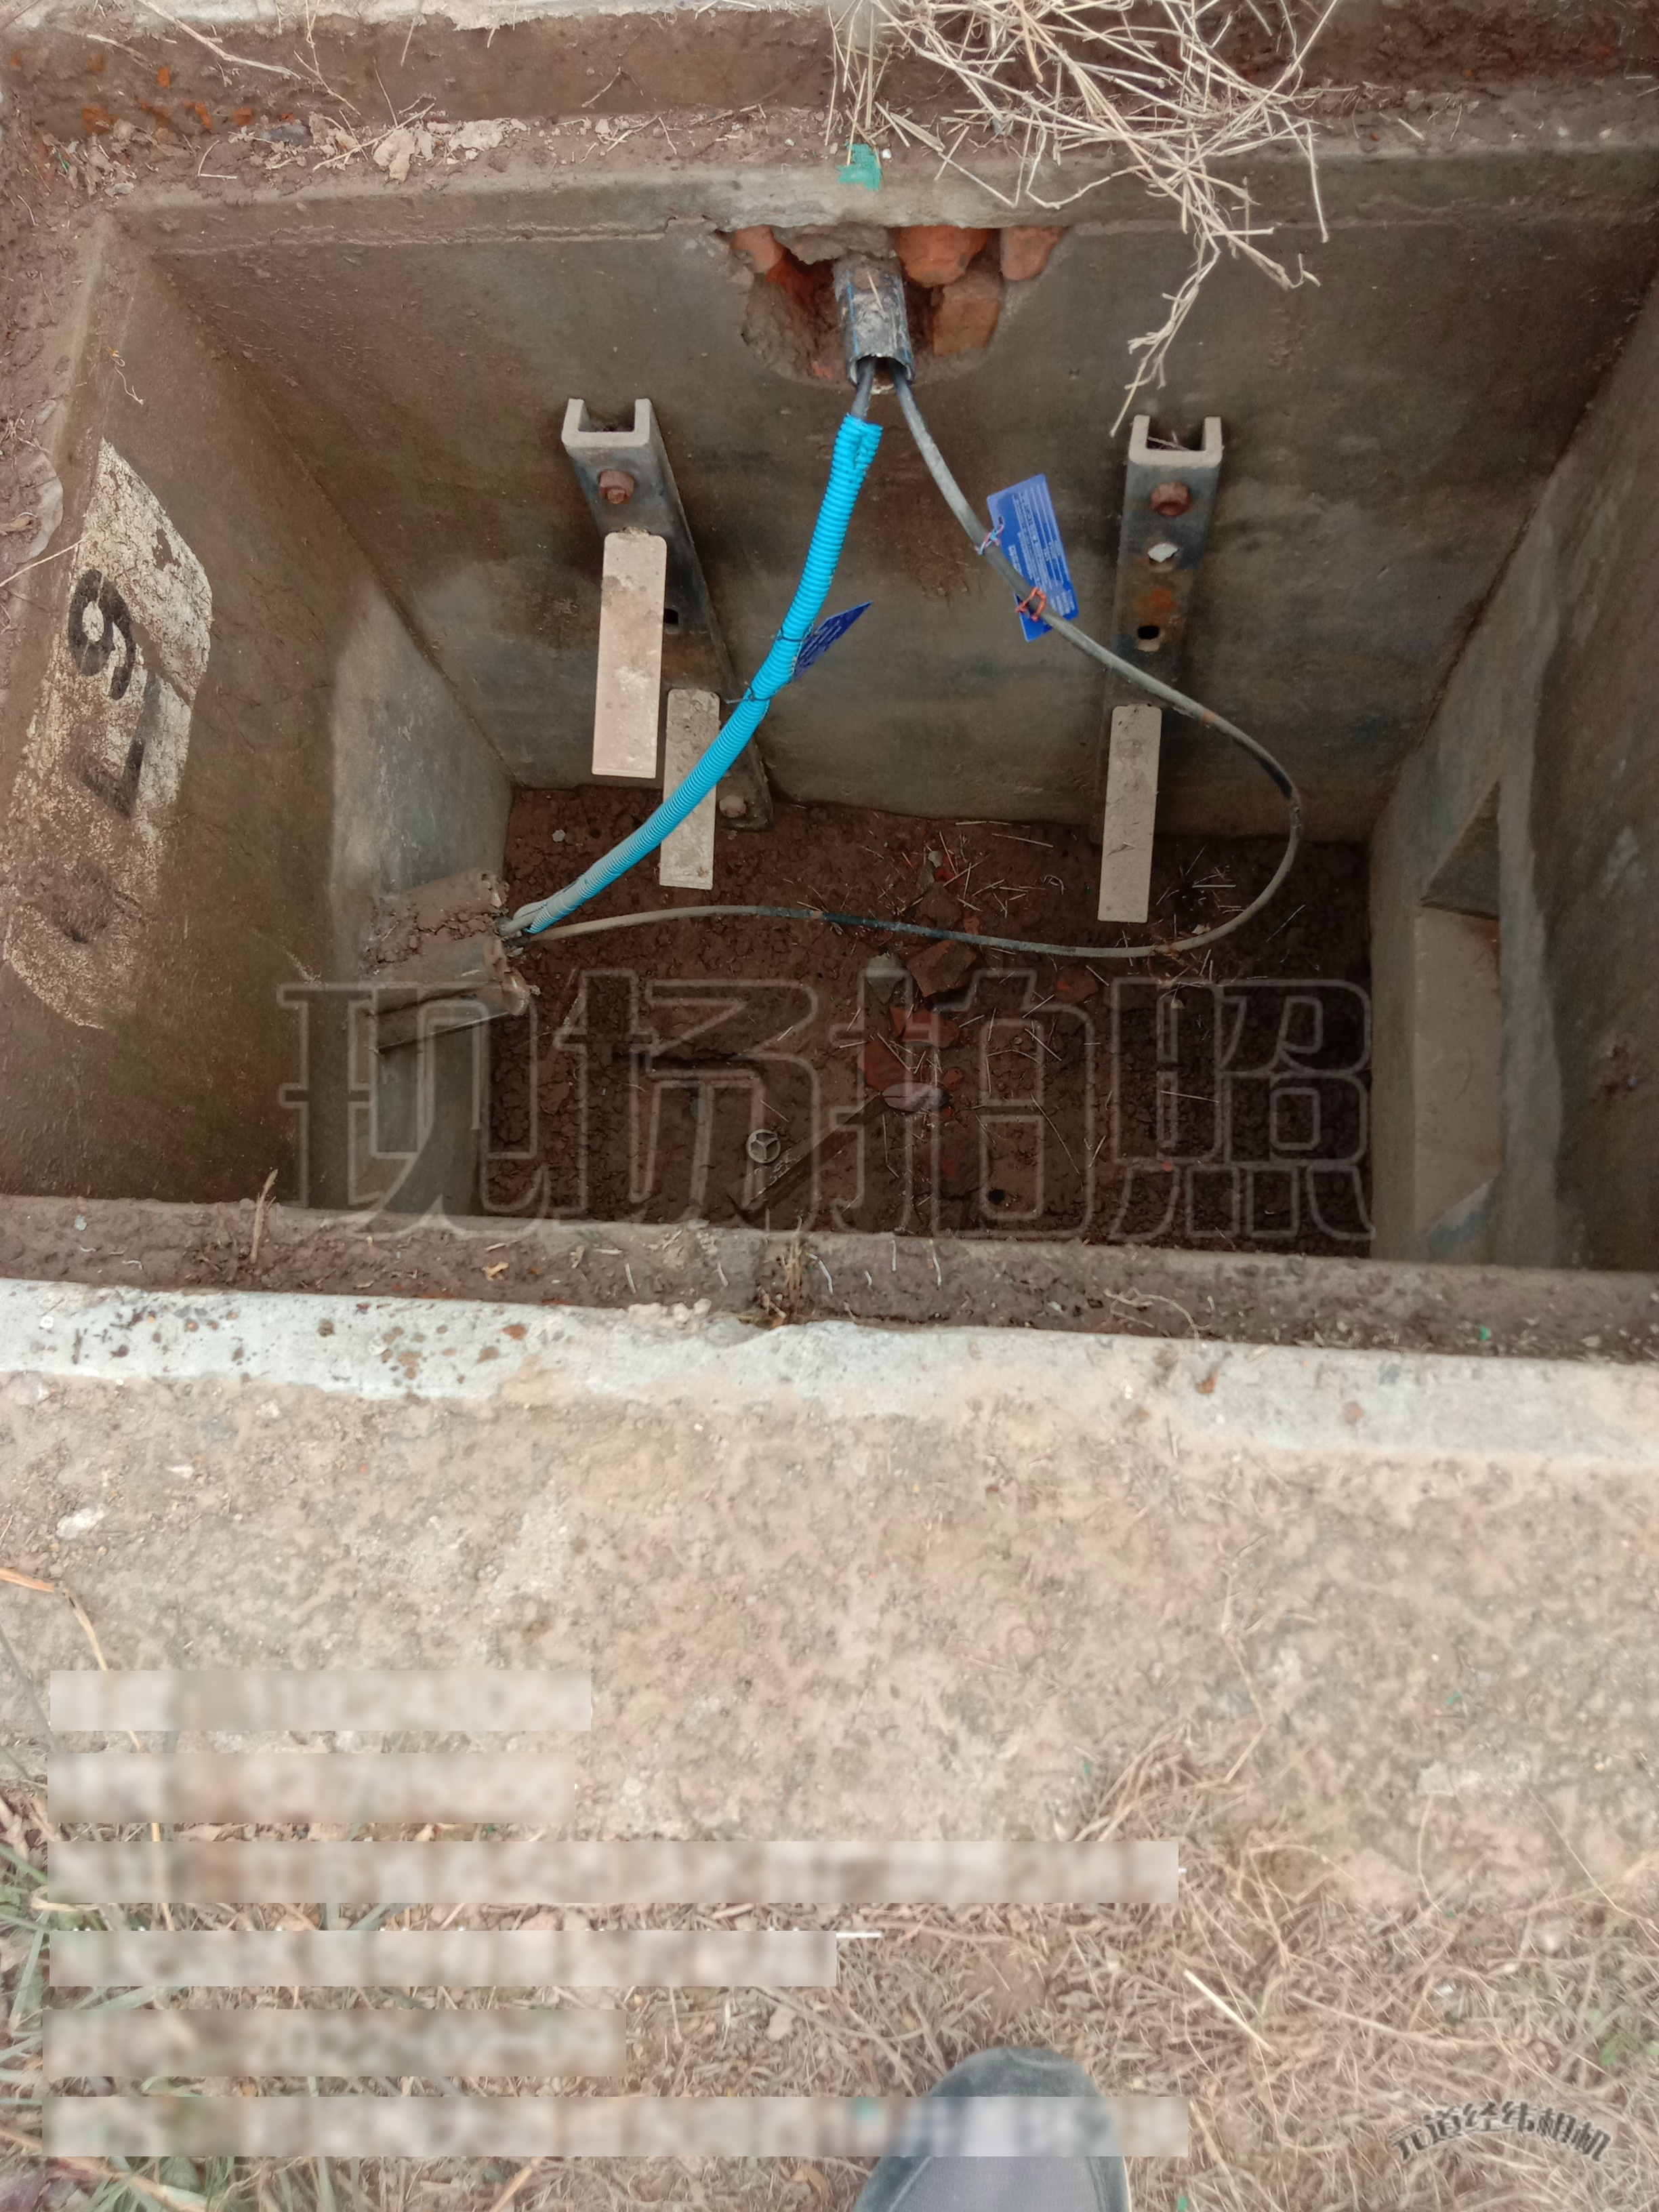lose: (9, 77, 1659, 1366)
